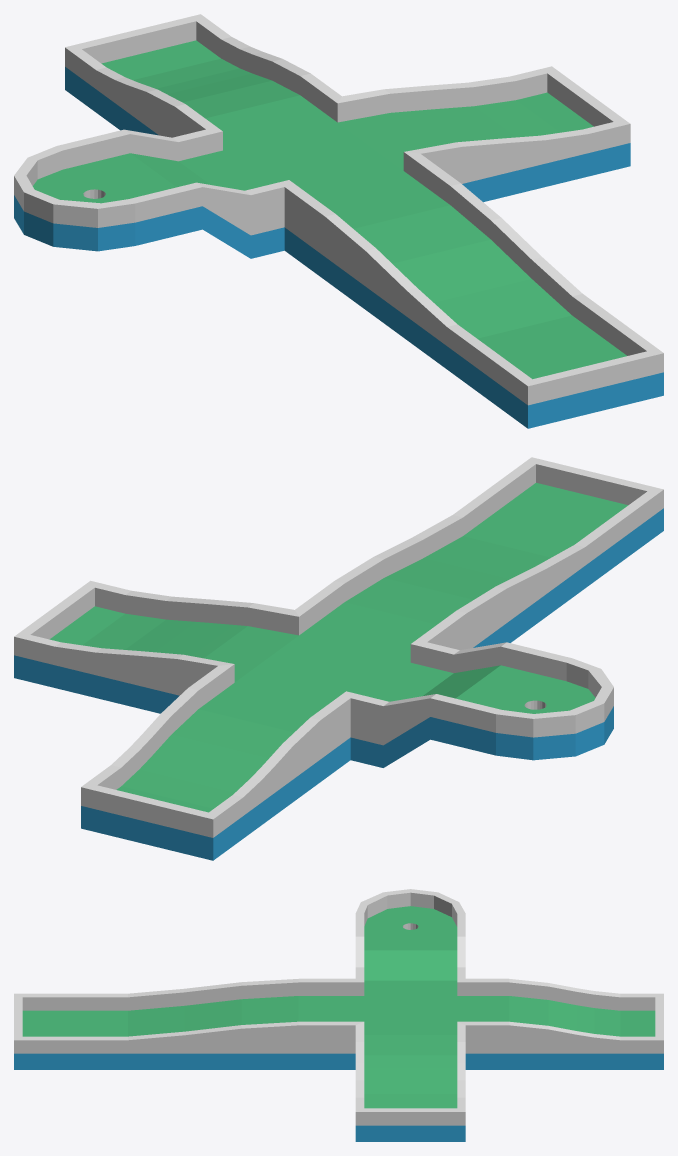
The model's file is hole2.fbx.
3 renders of one model, top to bottom at view 1: azimuth 30°, elevation 25°; view 2: azimuth 150°, elevation 25°; view 3: azimuth 270°, elevation 25°, orthographic. The views are drawn at different scales.
Visible parts, largest first — view 1: Cube.001; view 2: Cube.001; view 3: Cube.001.
Part boxes in pixels (x1,y1,x2,y2): Cube.001: [14, 14, 663, 428]; Cube.001: [14, 457, 663, 860]; Cube.001: [14, 889, 663, 1141].
Size of the model in its own units: 1178 by 166 by 1665.
